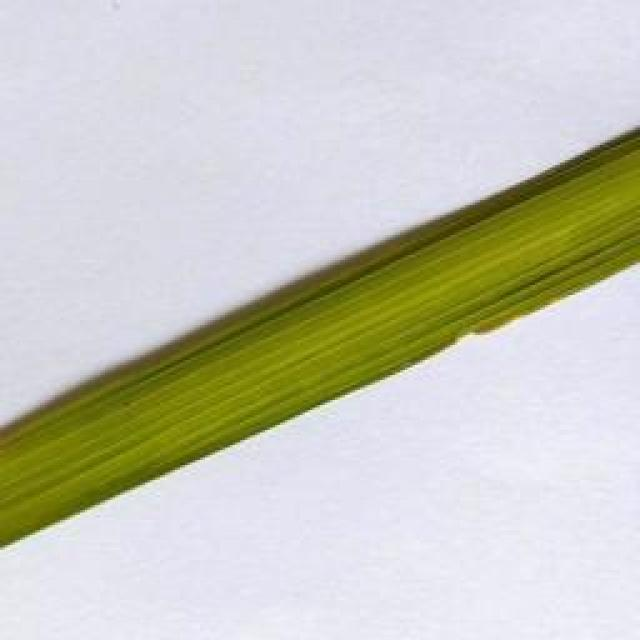Healthy-Plant: (0, 125, 640, 548)
